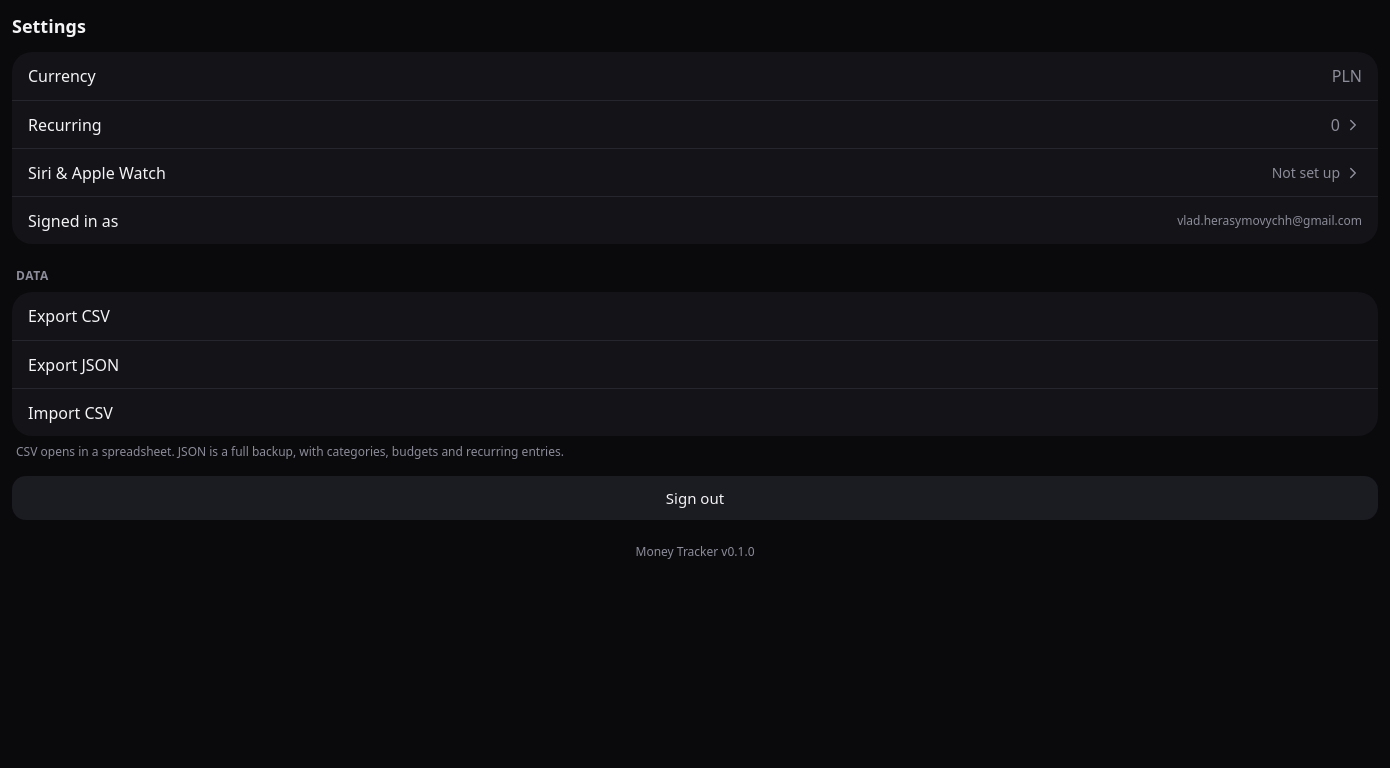
Test case: SettingsPage › toasts the reason when signing out fails
This screenshot has width=1390, height=768.
Click the button "Sign out": coordinates (695, 498) [12, 476, 1378, 520]
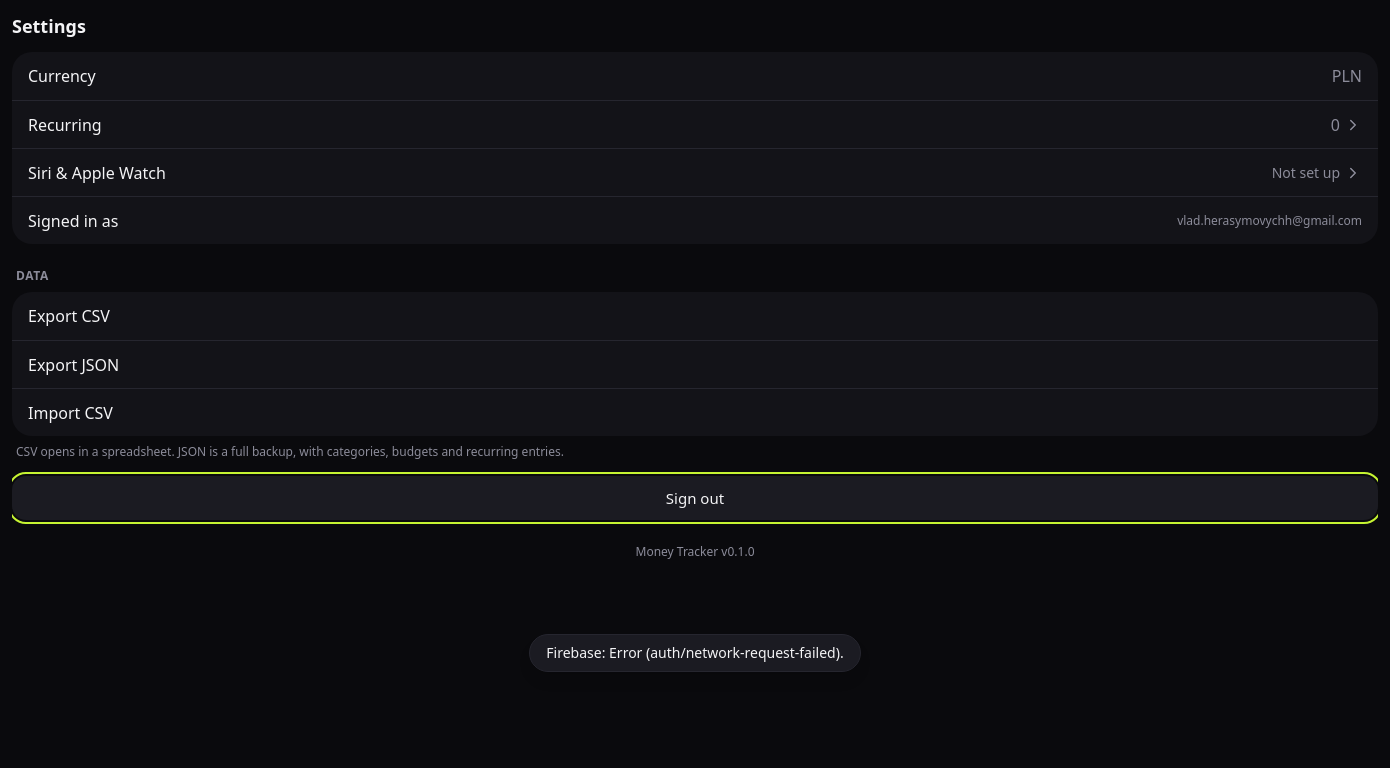
Expected: the message reads "Firebase: Error (auth/network-request-failed).", [546, 643, 844, 662]
